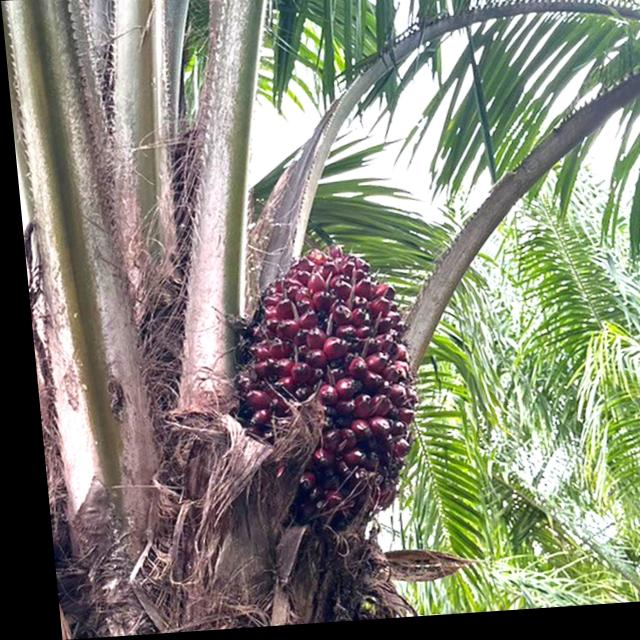ripe: (210, 224, 432, 536)
